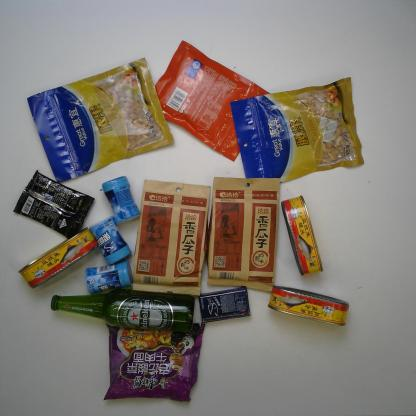Alcohol: (50, 288, 196, 334)
Canned Food: (17, 226, 99, 290), (266, 284, 351, 328), (280, 193, 324, 277)
Dried Food: (130, 179, 212, 297), (205, 176, 281, 293)
Dried Fruit: (26, 55, 176, 183), (230, 76, 365, 188), (154, 38, 270, 163)
Gum: (88, 216, 133, 266), (98, 174, 141, 226), (198, 286, 251, 324), (84, 259, 134, 296)
Instant Drink: (12, 167, 96, 240)
Instant Noodles: (100, 324, 206, 403)
